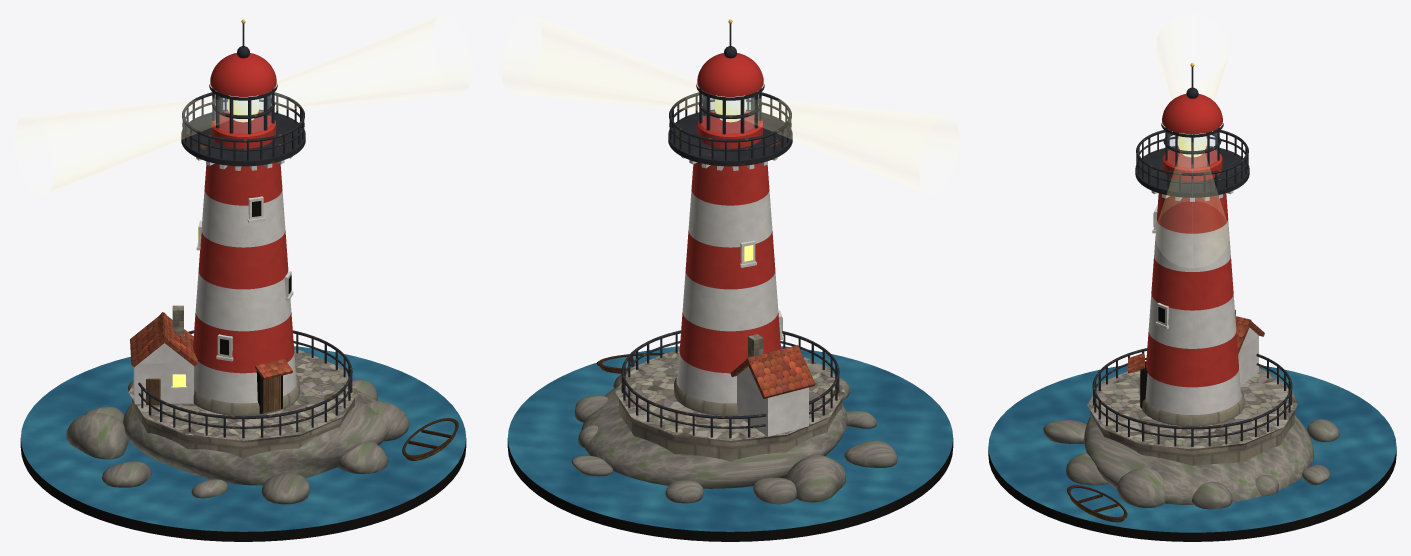
Rendered from latarnia.glb.
3 views of the same model, side by side, from view 1: azimuth 30°, elevation 25°; view 2: azimuth 150°, elevation 25°; view 3: azimuth 270°, elevation 25° (orthographic). The views are drawn at different scales.
Visible parts, largest first — view 1: latarnia, snop_swiatla; view 2: latarnia, snop_swiatla; view 3: latarnia, snop_swiatla.
Boxes of the visible parts, box(x1,y1,x2,y2) form: latarnia: box(20, 19, 466, 541); snop_swiatla: box(29, 16, 456, 193); latarnia: box(507, 19, 953, 541); snop_swiatla: box(517, 16, 944, 193); latarnia: box(988, 63, 1396, 541); snop_swiatla: box(1158, 14, 1226, 267).
Bounding box in the file's own units: 1.3 × 1.28 × 1.2.
Materials: 17 (10 with a texture image).
